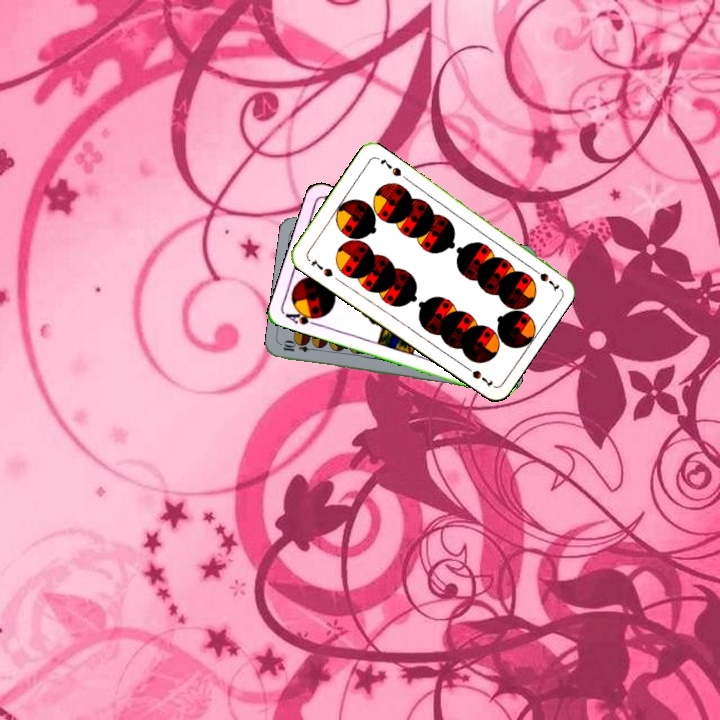E10: (279, 339, 320, 354)
S7: (526, 262, 562, 292), (307, 255, 335, 280)
SA: (281, 305, 323, 328)
